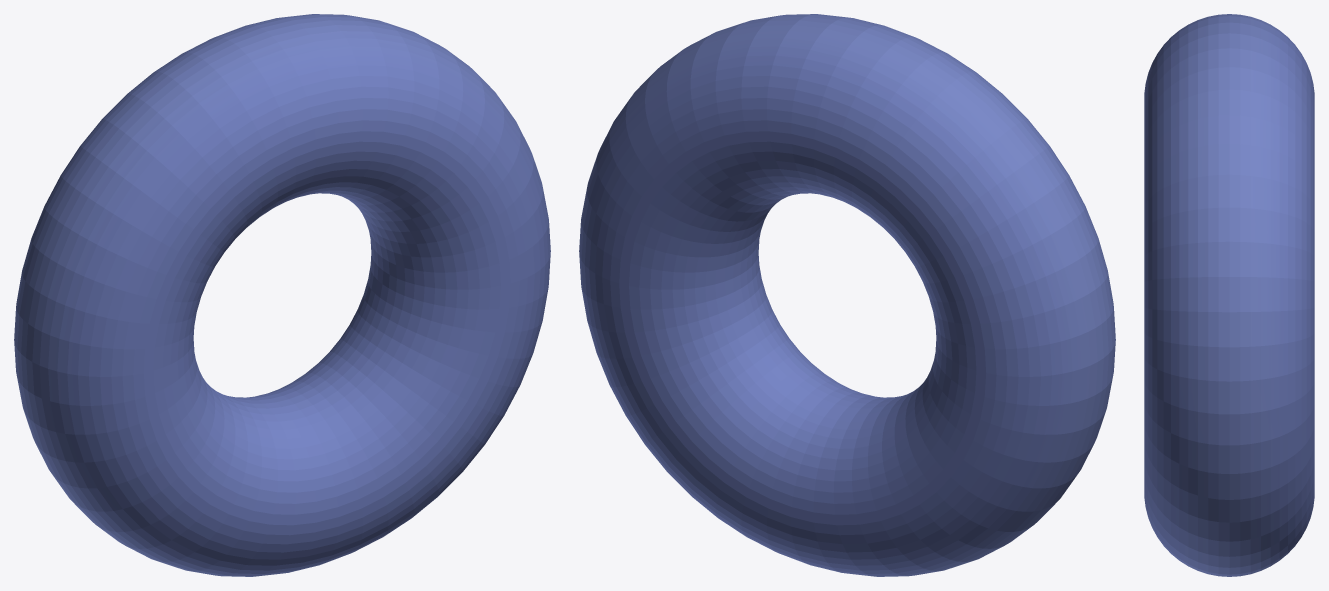
3 renders of one model, left to right at view 1: azimuth 30°, elevation 25°; view 2: azimuth 150°, elevation 25°; view 3: azimuth 270°, elevation 25°, orthographic. The views are drawn at different scales.
Visible parts, largest first — view 1: world; view 2: world; view 3: world.
Part boxes in pixels (x1,y1,x2,y2): world: (14, 14, 550, 576); world: (579, 14, 1115, 576); world: (1144, 14, 1314, 576).
Size of the model in its own units: 16.27 by 16.23 by 4.92.
